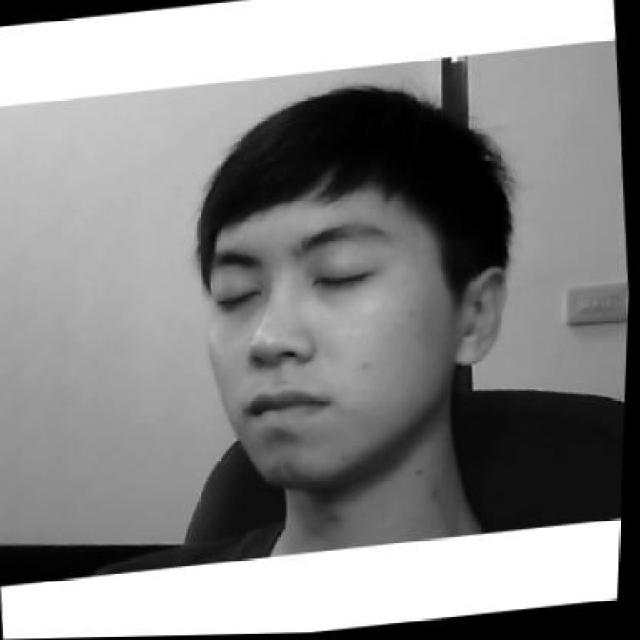inattentif: (181, 71, 533, 494)
